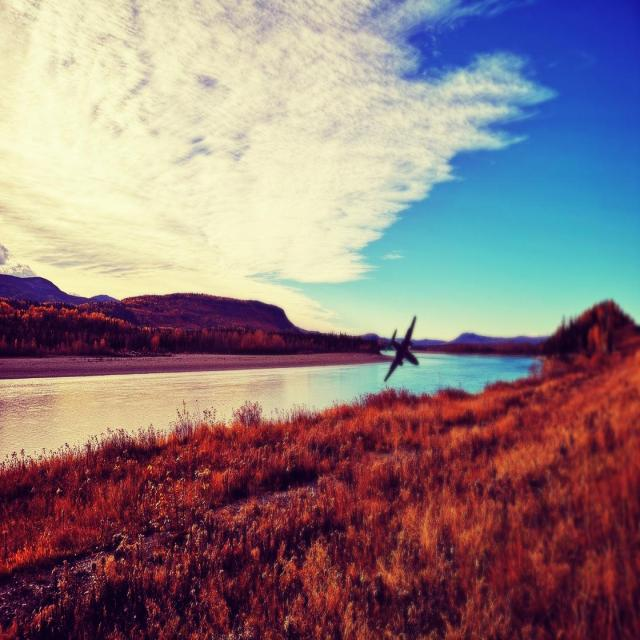airplane: (377, 314, 419, 382)
